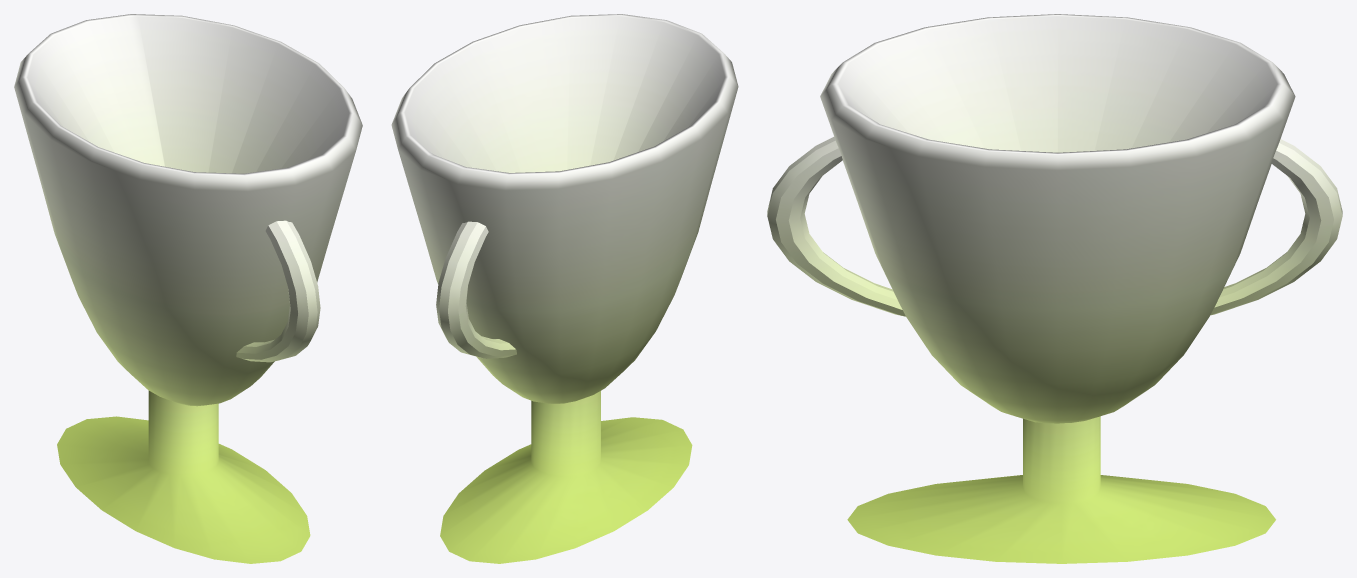
File: Trophy.fbx
3 renders of one model, left to right at view 1: azimuth 30°, elevation 25°; view 2: azimuth 150°, elevation 25°; view 3: azimuth 270°, elevation 25°, orthographic. The views are drawn at different scales.
Visible parts, largest first — view 1: Trophy; view 2: Trophy; view 3: Trophy.
Boxes of the visible parts, bbox=[...] form: Trophy: bbox=[14, 14, 362, 563]; Trophy: bbox=[391, 14, 738, 563]; Trophy: bbox=[767, 14, 1342, 563].
Bounding box in the file's own units: 8.5 × 11.69 × 13.95.
1 material, 1 textured.
